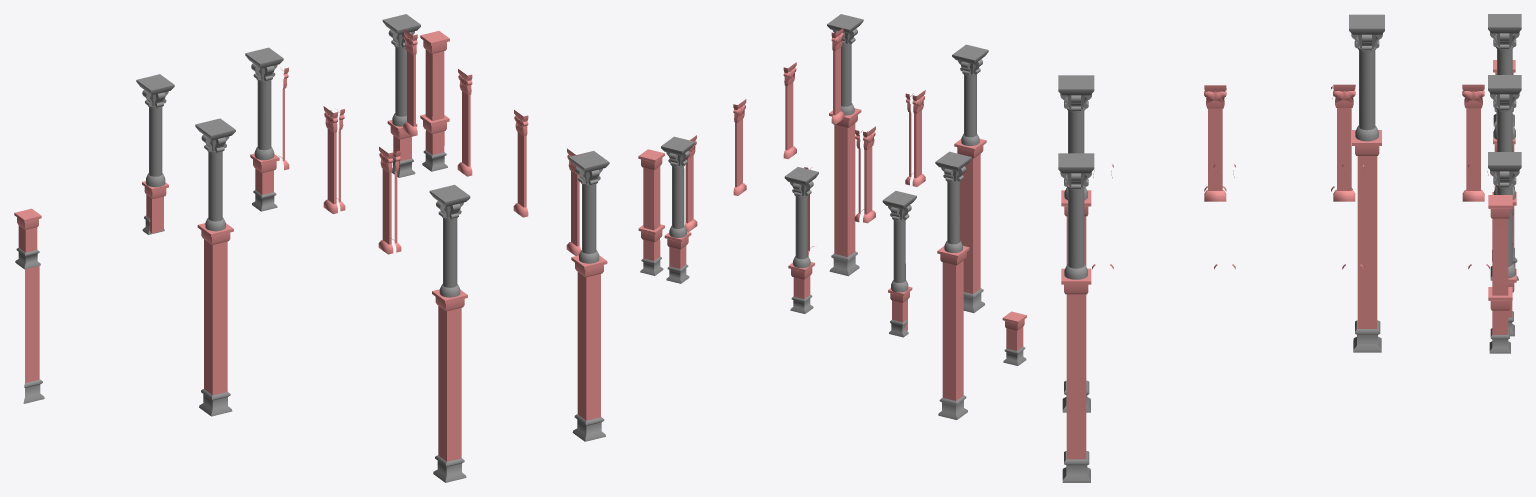
The model's file is S_Envi_Fyz_BuildingMerge_94n.gltf.
3 views of the same model, side by side, from view 1: azimuth 30°, elevation 25°; view 2: azimuth 150°, elevation 25°; view 3: azimuth 270°, elevation 25° (orthographic). The views are drawn at different scales.
Visible parts, largest first — view 1: S_Envi_Fyz_BuildingMerge_94n; view 2: S_Envi_Fyz_BuildingMerge_94n; view 3: S_Envi_Fyz_BuildingMerge_94n.
Part boxes in pixels (box(x1,y1,x2,y2)): S_Envi_Fyz_BuildingMerge_94n: box(14, 14, 609, 482); S_Envi_Fyz_BuildingMerge_94n: box(638, 14, 1026, 419); S_Envi_Fyz_BuildingMerge_94n: box(1058, 14, 1521, 482).
Size of the model in its own units: 20.07 by 12.87 by 16.49.
